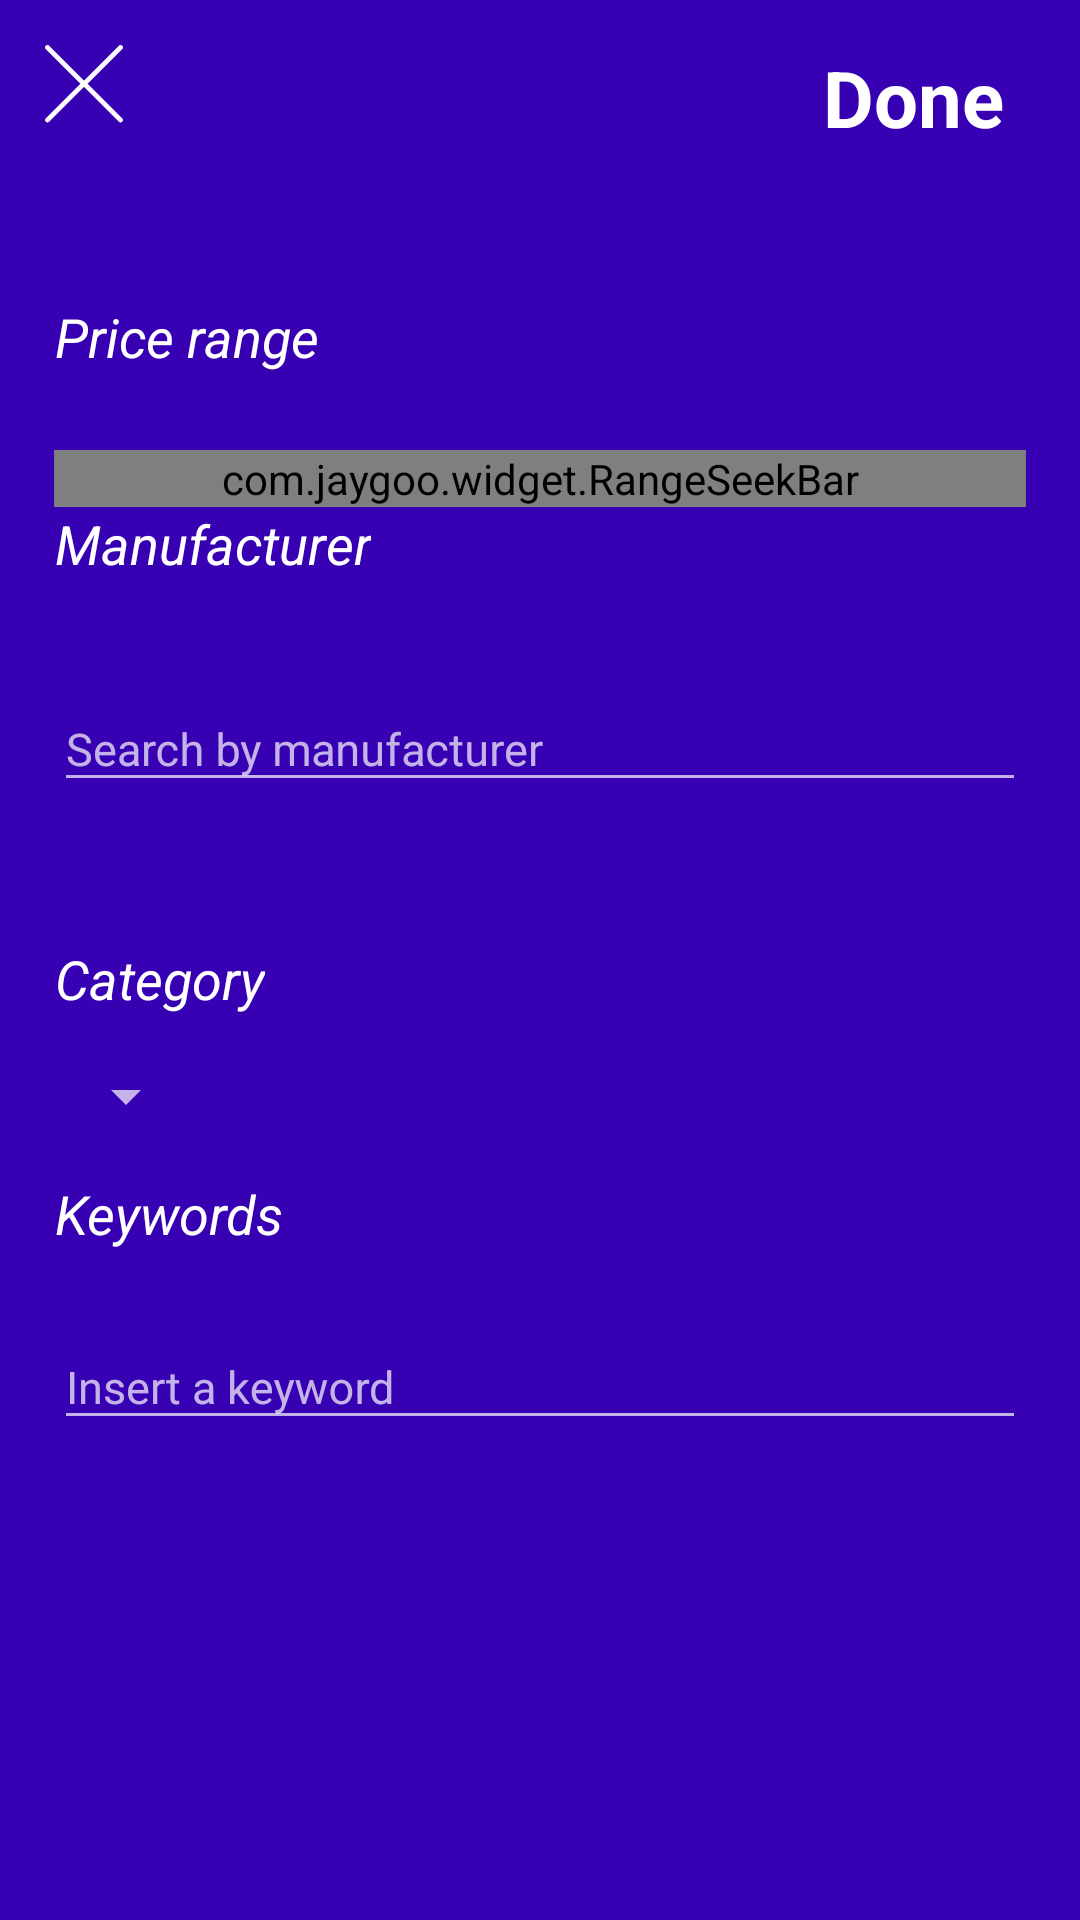

Screen size 1080×1920. Icon name, then its box in pixels as (x1, y1, x2, y2):
cancel: (45, 45, 123, 123)
